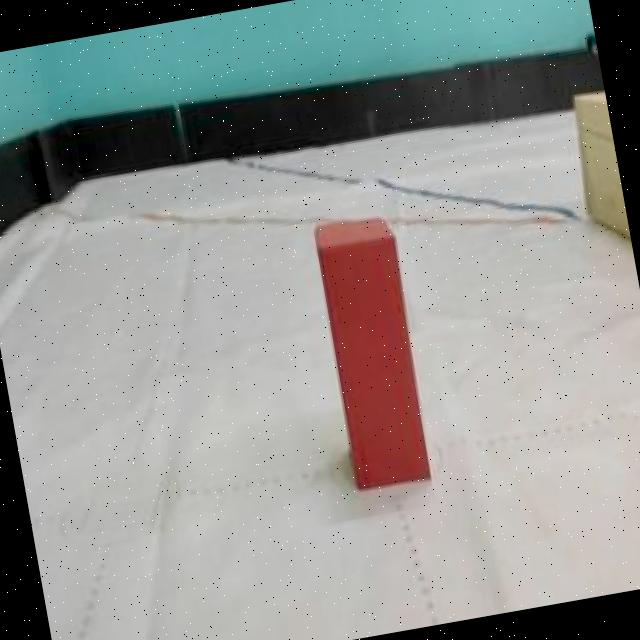redbox: (312, 210, 436, 488)
